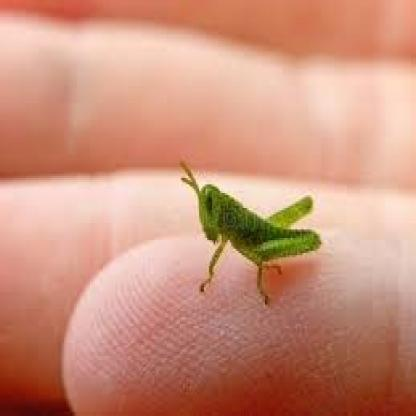grasshopper: (176, 160, 324, 302)
